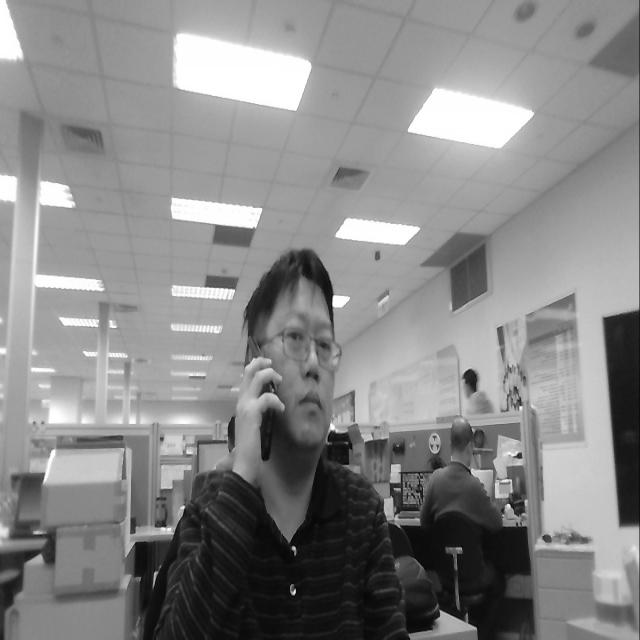phone: (225, 324, 287, 476)
